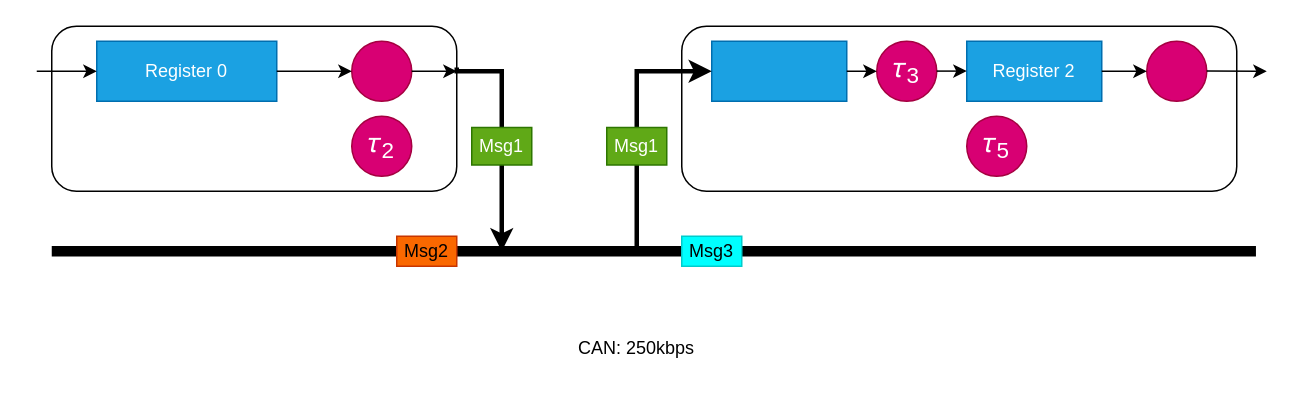
The diagram is 1305 pixels wide and 398 high, and some of its shapes have lost their labels. The box of each missing label's shape, as (x1, y1, x2, y2) in pixels:
Register 1: (710, 40, 847, 101)
𝜏 1: (350, 40, 412, 101)
𝜏 4: (1145, 40, 1207, 101)
